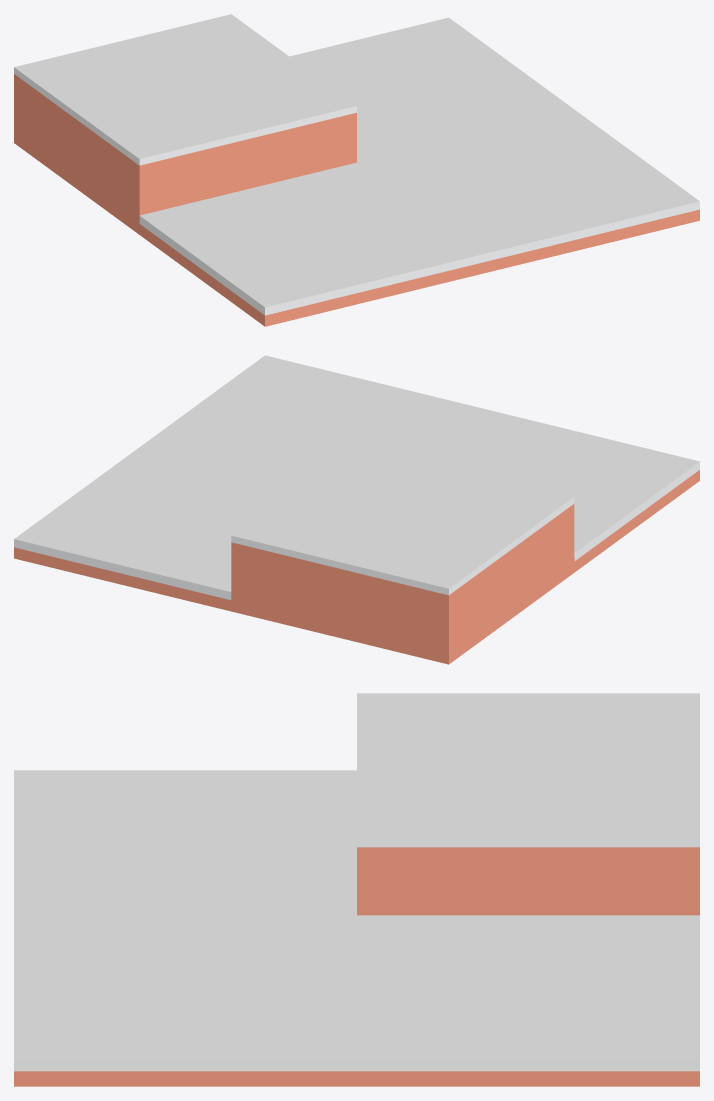
Rendered from platform_002.glb.
3 renders of one model, top to bottom at view 1: azimuth 30°, elevation 25°; view 2: azimuth 150°, elevation 25°; view 3: azimuth 270°, elevation 25°, orthographic. The views are drawn at different scales.
Visible parts, largest first — view 1: platform_002; view 2: platform_002; view 3: platform_002.
Part boxes in pixels (x1=…): platform_002: x1=14, y1=14, x2=699, y2=326; platform_002: x1=14, y1=355, x2=699, y2=664; platform_002: x1=14, y1=693, x2=699, y2=1086.
Bounding box in the file's own units: 30 × 5 × 30.
1 material, 1 textured.
